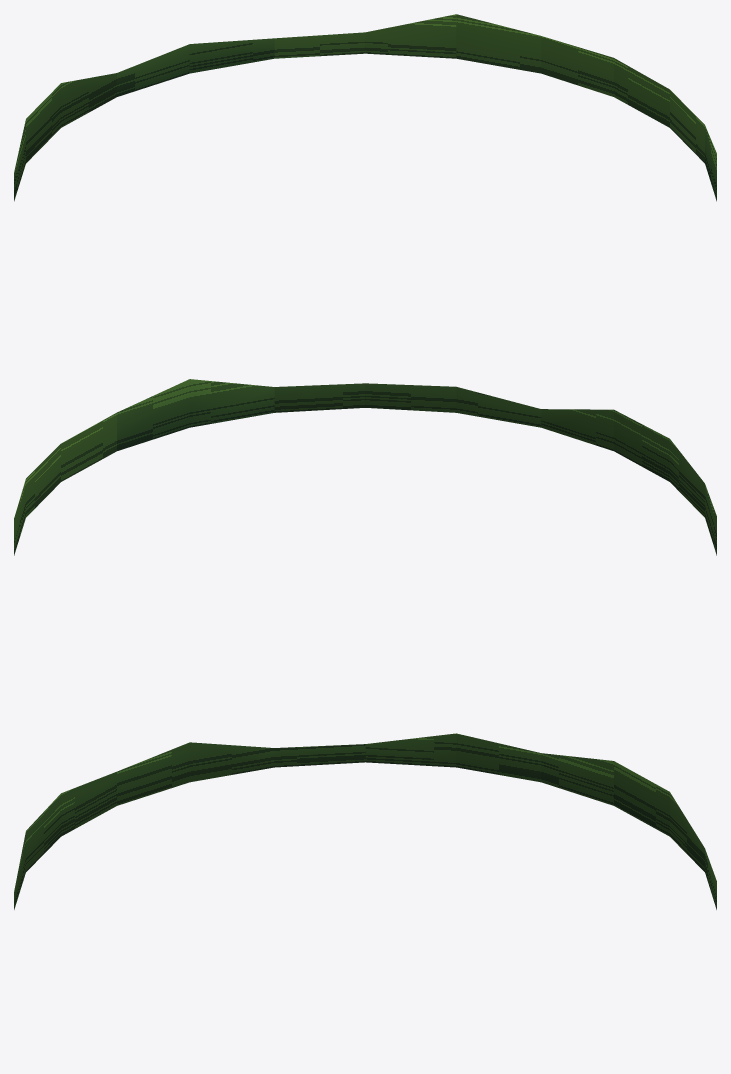
The model's file is mter.backdrop__hills.glb.
3 renders of one model, top to bottom at view 1: azimuth 30°, elevation 25°; view 2: azimuth 150°, elevation 25°; view 3: azimuth 270°, elevation 25°, orthographic.
Parts seen in each view (by area): view 1: kit_shell_vista; view 2: kit_shell_vista; view 3: kit_shell_vista.
Boxes of the visible parts, x1,y1,x2,y2 form: kit_shell_vista: [14, 14, 716, 201]; kit_shell_vista: [14, 379, 716, 555]; kit_shell_vista: [14, 733, 716, 909].
Size of the model in its own units: 520 by 39.72 by 520.
1 material, 1 textured.
